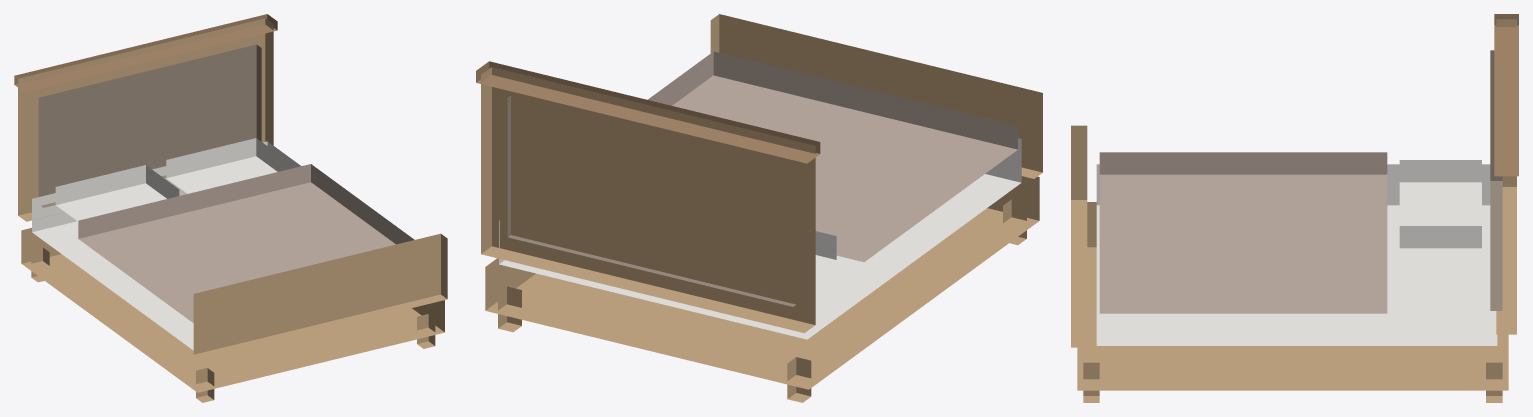
File: yatak.glb
3 views of the same model, side by side, from view 1: azimuth 30°, elevation 25°; view 2: azimuth 150°, elevation 25°; view 3: azimuth 270°, elevation 25° (orthographic). The views are drawn at different scales.
Bounding box in the file's own units: 1.74 × 1.31 × 2.18.
